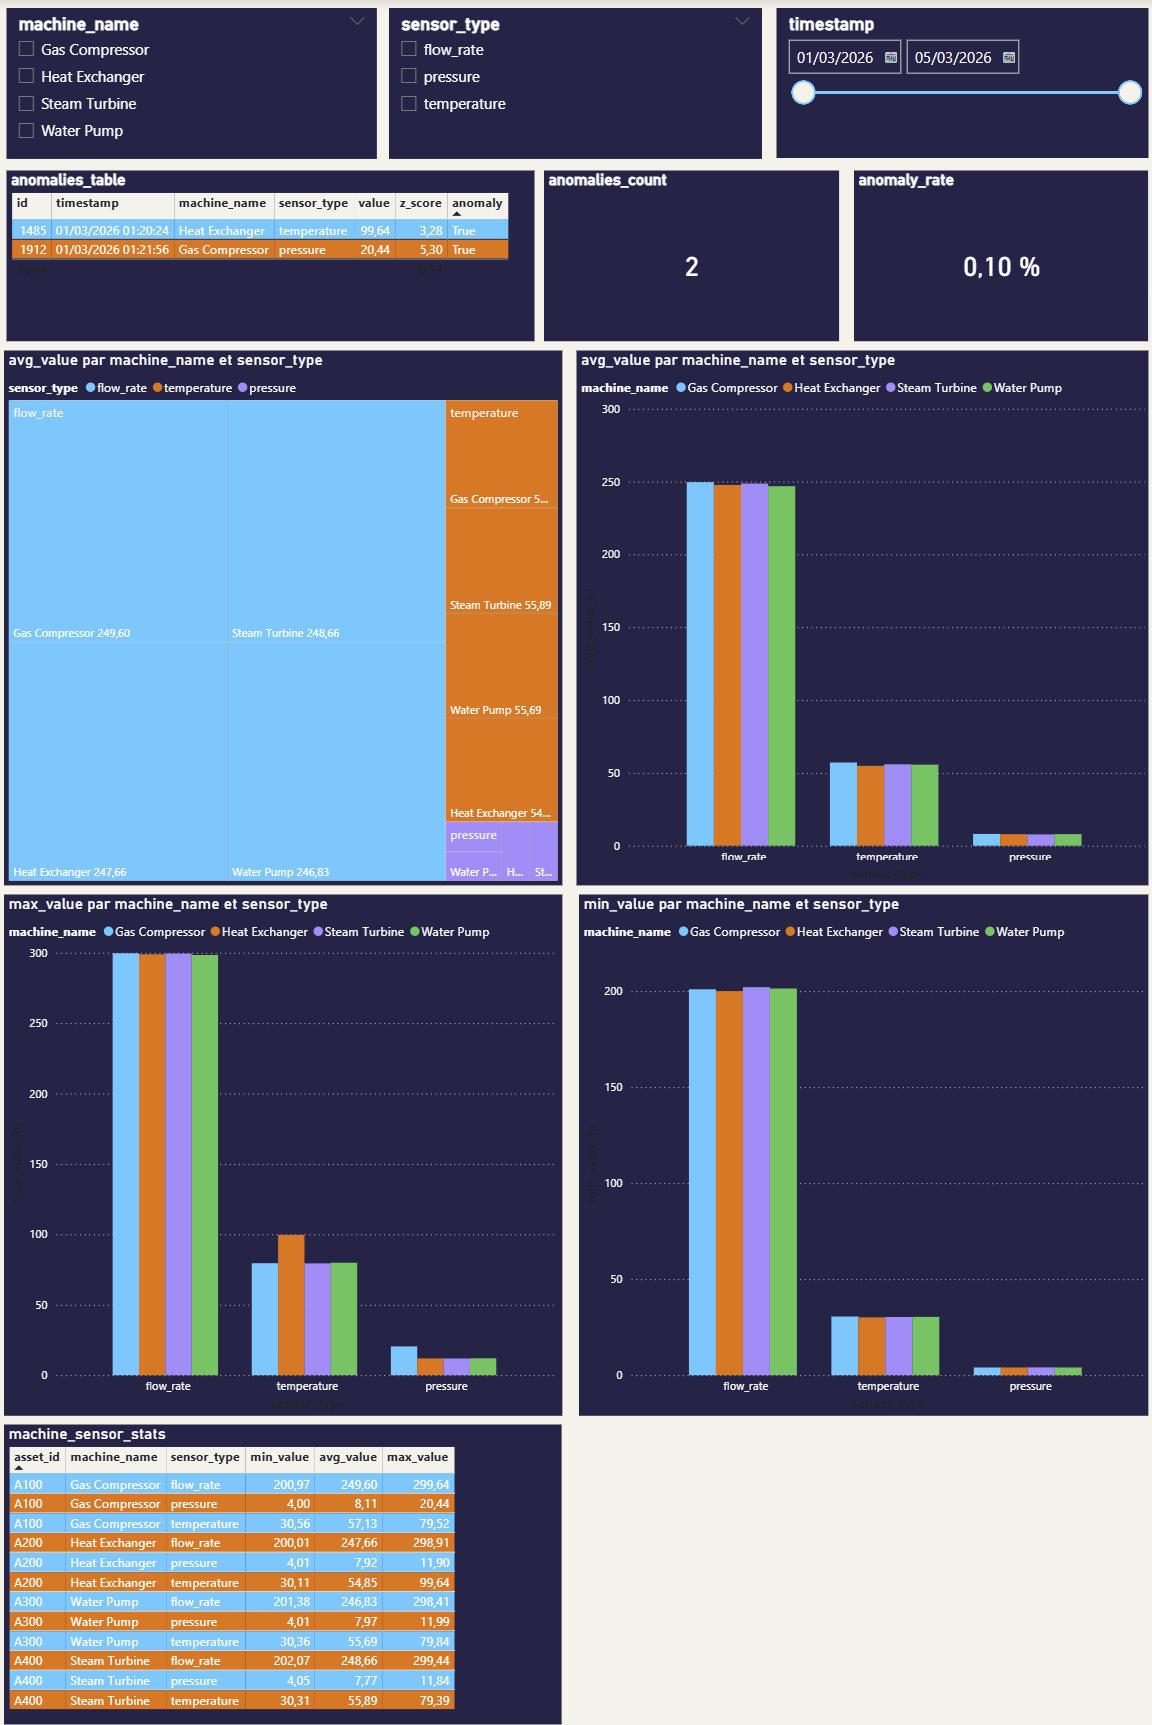

What the dashboard file says about the page in this screenshot:
{"tool":"powerbi","page":{"name":"Page 1","canvas":[1280,1650],"ordinal":0},"visuals":[{"type":"slicer","fields":{"Values":["industrial_sensor_bi.machine_name"]},"box":[28.3,9.9,210.6,161.1],"z":0},{"type":"slicer","fields":{"Values":["industrial_sensor_bi.sensor_type"]},"box":[254.4,9.9,210.6,161.1],"z":1000},{"type":"treemap","title":"Avg_value par sensor_type et machine_name","fields":{"Group":["industrial_sensor_bi.sensor_type"],"Values":["Avg(industrial_sensor_bi_full.avg_value)"],"Details":["industrial_sensor_bi_full.machine_name"]},"box":[28.6,181,595.4,571.6],"z":2000},{"type":"clusteredColumnChart","title":"Max_value par machine_name et sensor_type","fields":{"Y":["Avg(industrial_sensor_bi.max_value)"],"Series":["industrial_sensor_bi_full.machine_name"],"Category":["industrial_sensor_bi_full.sensor_type"]},"box":[28.6,769.6,595.4,557.3],"z":3000},{"type":"clusteredColumnChart","title":"Min_value par machine_name et sensor_type","fields":{"Series":["industrial_sensor_bi_full.machine_name"],"Y":["Avg(industrial_sensor_bi.min_value)"],"Category":["industrial_sensor_bi_full.sensor_type"]},"box":[662.1,769.6,590.6,557.3],"z":4000},{"type":"tableEx","title":"anomalies_table","fields":{"Values":["industrial_sensor_bi_full.id","industrial_sensor_bi_full.timestamp","industrial_sensor_bi_full.machine_name","industrial_sensor_bi_full.sensor_type","industrial_sensor_bi_full.value","Sum(industrial_sensor_bi_full.z_score)","industrial_sensor_bi_full.anomaly"]},"box":[710.8,9.9,542.6,161.1],"z":5000},{"type":"clusteredColumnChart","title":"Avg_value par sensor_type et machine_name","fields":{"Y":["Avg(industrial_sensor_bi_full.avg_value)"],"Series":["industrial_sensor_bi_full.machine_name"],"Category":["industrial_sensor_bi_full.sensor_type"]},"box":[662.1,181,590.6,571.6],"z":6000},{"type":"tableEx","fields":{"Values":["industrial_sensor_bi_full.asset_id","industrial_sensor_bi_full.machine_name","industrial_sensor_bi_full.sensor_type","Avg(industrial_sensor_bi_full.min_value)","Avg(industrial_sensor_bi_full.avg_value)","Avg(industrial_sensor_bi_full.max_value)"]},"box":[28.3,1338.2,596.3,292.5],"z":7000},{"type":"card","title":"anomalie_rate","fields":{"Values":["industrial_sensor_bi_full.Anomalies_rate"]},"box":[481.9,9.9,210.6,161.1],"z":8000}]}

Visuals, with their boxes in screenshot pixels (x1, y1, x2, y2):
slicer - industrial_sensor_bi.machine_name: (x1=4, y1=193, x2=197, y2=341)
slicer - industrial_sensor_bi.sensor_type: (x1=211, y1=193, x2=405, y2=341)
"Avg_value par sensor_type et machine_name" treemap: (x1=4, y1=350, x2=551, y2=876)
"Max_value par machine_name et sensor_type" clusteredColumnChart: (x1=4, y1=891, x2=551, y2=1403)
"Min_value par machine_name et sensor_type" clusteredColumnChart: (x1=586, y1=891, x2=1128, y2=1403)
"anomalies_table" tableEx: (x1=630, y1=193, x2=1129, y2=341)
"Avg_value par sensor_type et machine_name" clusteredColumnChart: (x1=586, y1=350, x2=1128, y2=876)
tableEx - industrial_sensor_bi_full.asset_id x industrial_sensor_bi_full.machine_name: (x1=4, y1=1413, x2=551, y2=1682)
"anomalie_rate" card: (x1=420, y1=193, x2=614, y2=341)
